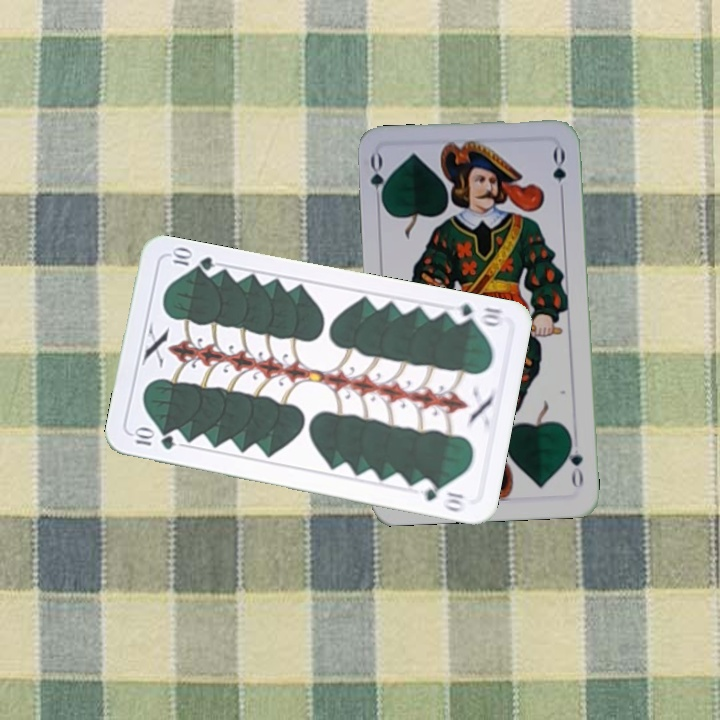G10: (446, 299, 507, 329), (128, 425, 178, 452)
GO: (366, 151, 391, 210), (562, 433, 586, 491)
